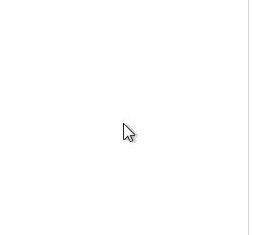cursor: (122, 122, 136, 143)
